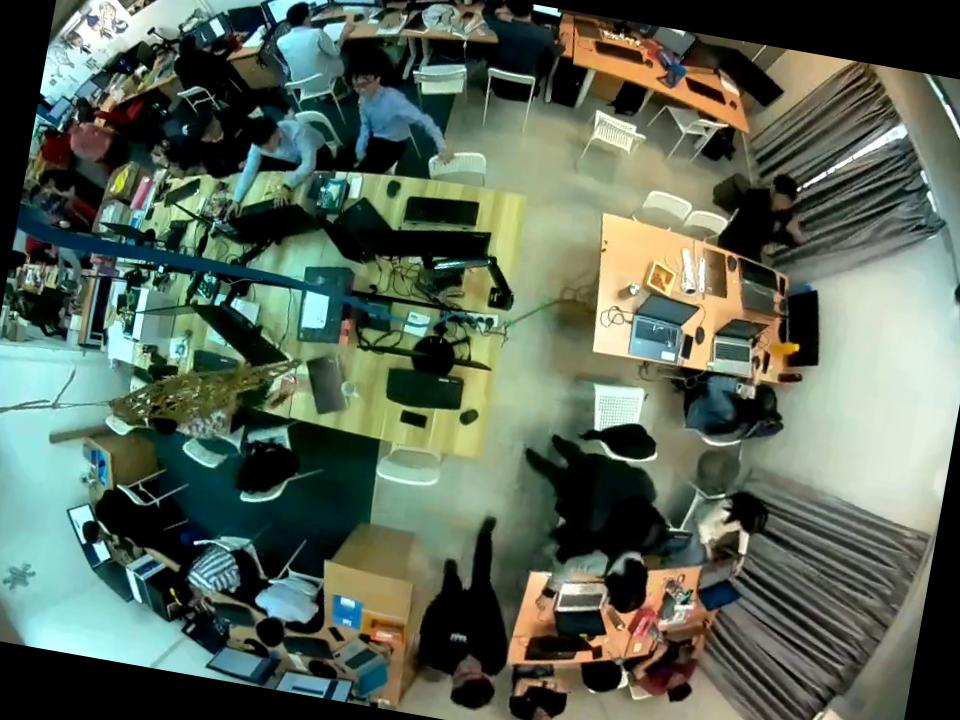employee_tag: (448, 631, 469, 646)
